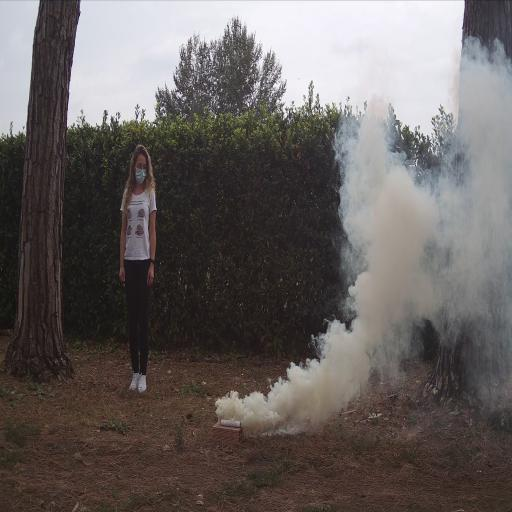leakage: (207, 8, 512, 471)
